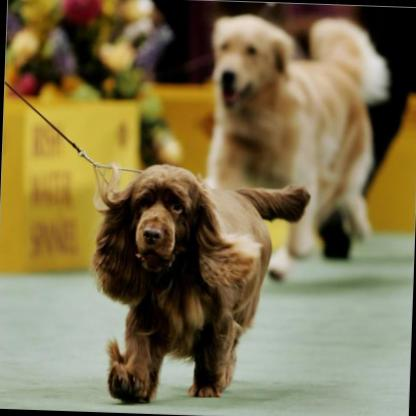Sussex_spaniel: (87, 160, 310, 408)
